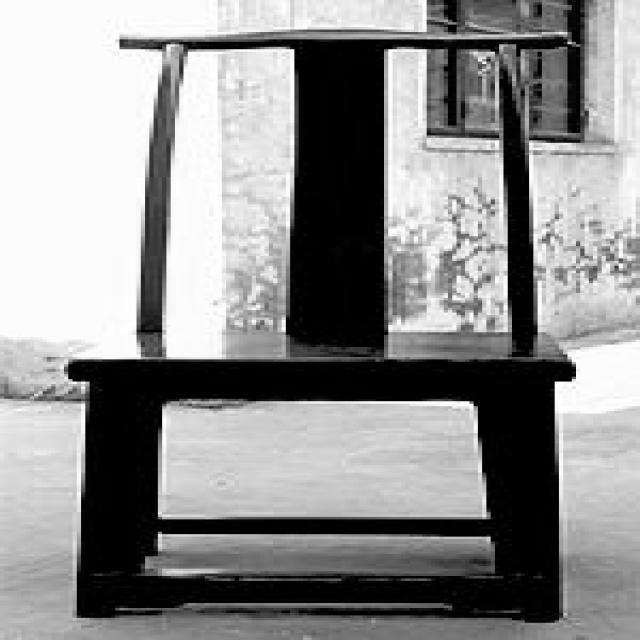chair: (67, 21, 584, 617)
